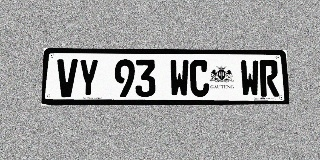3: (135, 59, 155, 97)
9: (115, 59, 135, 97)
C: (190, 60, 210, 97)
R: (259, 60, 279, 97)
V: (56, 59, 78, 97)
W: (240, 60, 260, 97), (170, 60, 189, 97)
Y: (78, 59, 99, 97)
